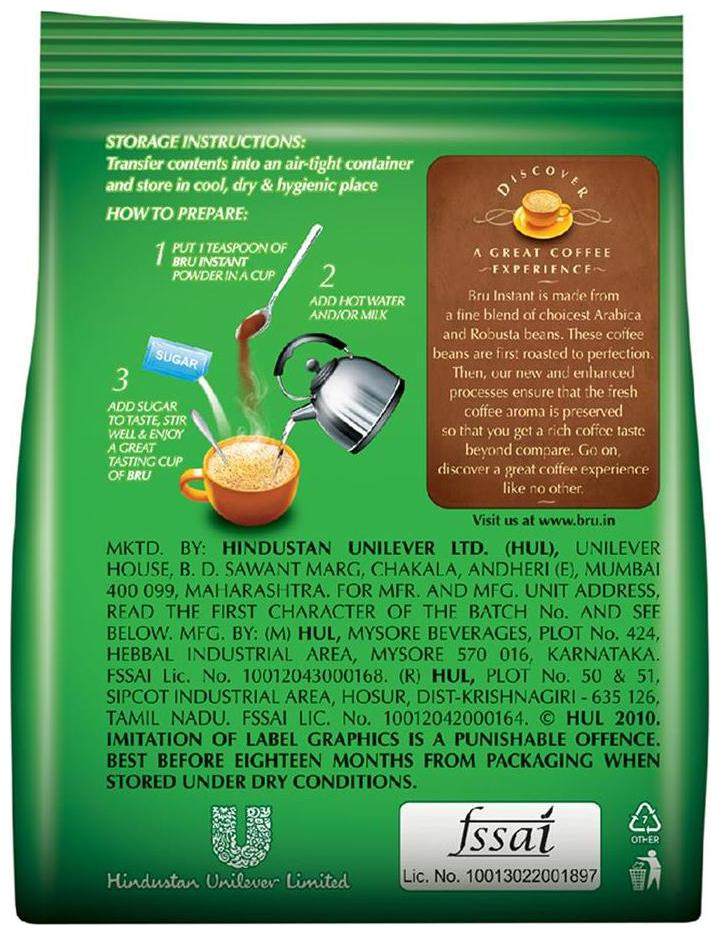fssai: (447, 806, 555, 859)
